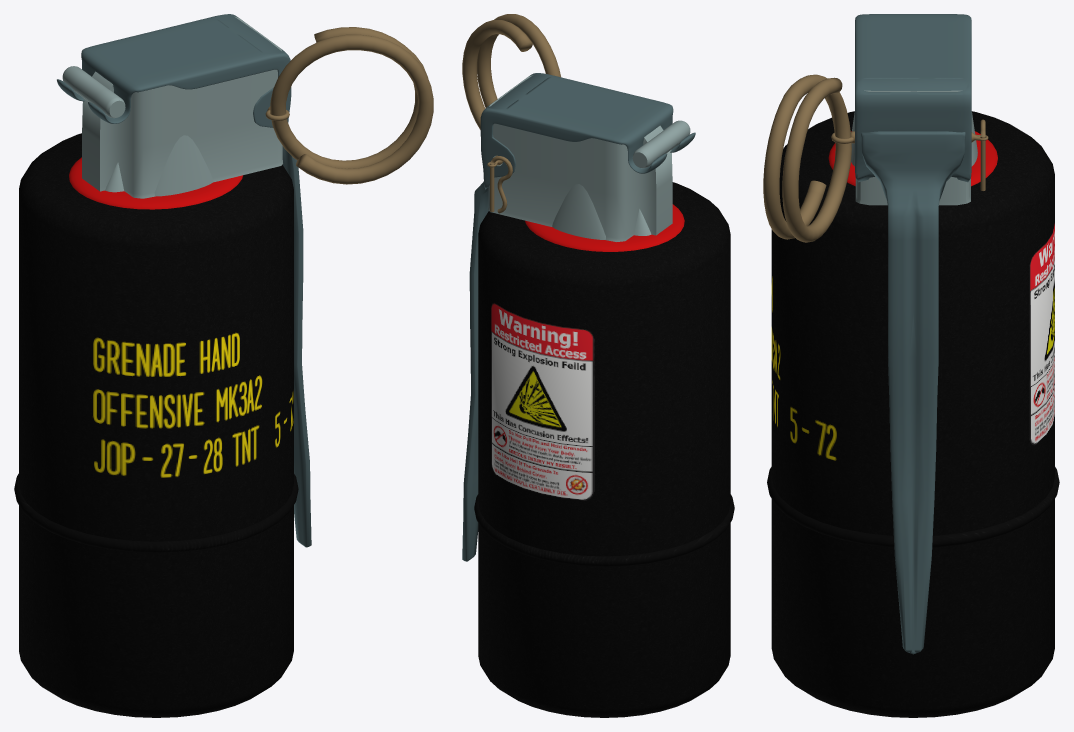
3 renders of one model, left to right at view 1: azimuth 30°, elevation 25°; view 2: azimuth 150°, elevation 25°; view 3: azimuth 270°, elevation 25°, orthographic. The views are drawn at different scales.
Parts seen in each view (by area): view 1: Container, Cap, Release, Pin_Grip; view 2: Container, Cap, Release, Pin_Grip, Pin_Pin; view 3: Container, Release, Pin_Grip, Cap.
Part boxes in pixels (x1,y1,x2,y2): Container: [14, 133, 298, 717]; Cap: [62, 16, 282, 198]; Release: [57, 14, 311, 547]; Pin_Grip: [270, 27, 433, 184]; Container: [474, 182, 734, 717]; Cap: [488, 75, 690, 241]; Release: [462, 73, 695, 561]; Pin_Grip: [462, 14, 560, 129]; Pin_Pin: [490, 156, 512, 213]; Container: [767, 111, 1059, 717]; Release: [855, 14, 971, 654]; Pin_Grip: [763, 74, 851, 242]; Cap: [851, 90, 977, 205].
Bounding box in the file's own units: 106 × 78.25 × 191.
